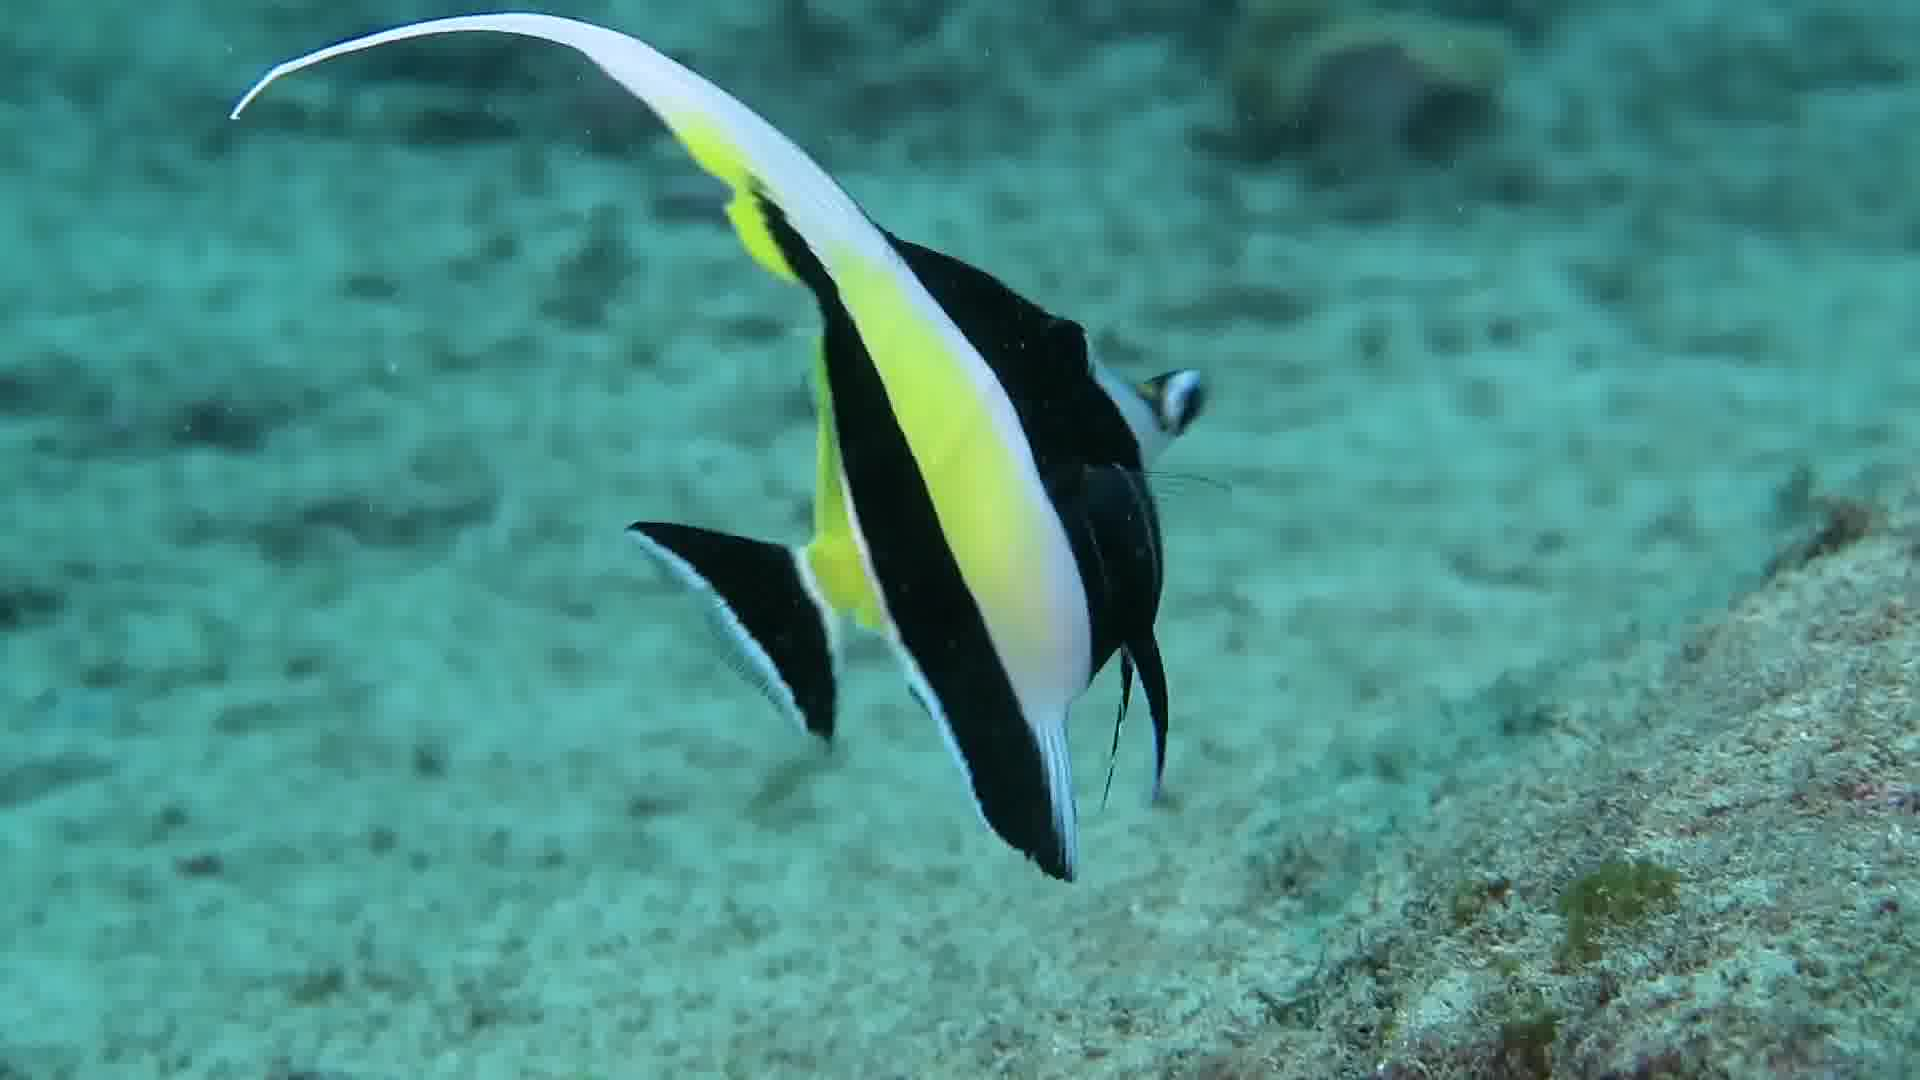Zanclus cornutus: (615, 84, 1255, 872)
